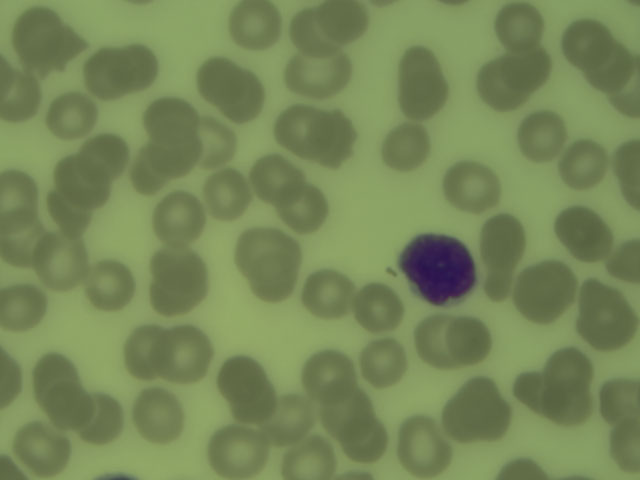RBC: (446, 379, 508, 444), (516, 260, 575, 319), (129, 385, 186, 445), (396, 410, 447, 474), (444, 160, 502, 215), (580, 283, 629, 348), (15, 419, 72, 474), (205, 427, 270, 475), (234, 229, 300, 275), (36, 232, 88, 290), (285, 51, 350, 96), (52, 157, 112, 205), (169, 321, 217, 380), (473, 60, 531, 107), (226, 1, 280, 51), (443, 312, 492, 367), (303, 350, 359, 398), (357, 280, 406, 334), (1, 210, 47, 267), (484, 210, 530, 267), (281, 435, 339, 480), (341, 413, 392, 464), (320, 383, 370, 435), (494, 2, 550, 48), (251, 253, 300, 305), (502, 44, 556, 91), (148, 272, 207, 315), (308, 269, 356, 321), (380, 124, 432, 172), (142, 95, 201, 137), (556, 18, 611, 63), (582, 45, 638, 89), (127, 326, 170, 383), (360, 340, 411, 388), (516, 111, 567, 159), (410, 314, 455, 367), (273, 109, 324, 155), (152, 195, 203, 241), (394, 76, 451, 117), (116, 41, 159, 95), (84, 261, 133, 308), (13, 6, 61, 53), (149, 129, 200, 173), (310, 114, 356, 162), (397, 46, 446, 91), (46, 191, 97, 234), (551, 205, 603, 247), (45, 381, 92, 427), (230, 378, 276, 425), (251, 155, 296, 202), (563, 138, 607, 186), (149, 248, 203, 287), (266, 399, 316, 441), (1, 69, 41, 121), (289, 13, 335, 58), (281, 181, 326, 226), (1, 285, 47, 329), (217, 356, 266, 397), (606, 421, 640, 480), (86, 392, 125, 443), (196, 59, 240, 103), (204, 173, 246, 219), (319, 1, 369, 39), (82, 137, 125, 181), (34, 356, 78, 399), (1, 172, 36, 226), (195, 124, 239, 166), (550, 344, 592, 388), (49, 94, 94, 135), (221, 79, 265, 120), (599, 376, 640, 420), (551, 381, 591, 426), (88, 51, 127, 97), (42, 28, 87, 67), (608, 237, 640, 288), (126, 153, 165, 194), (613, 73, 640, 125), (514, 375, 550, 413), (495, 454, 546, 480), (1, 349, 19, 413), (481, 263, 511, 300), (610, 140, 640, 177), (580, 224, 611, 258), (622, 170, 640, 213)
WBC: (395, 233, 482, 307)
